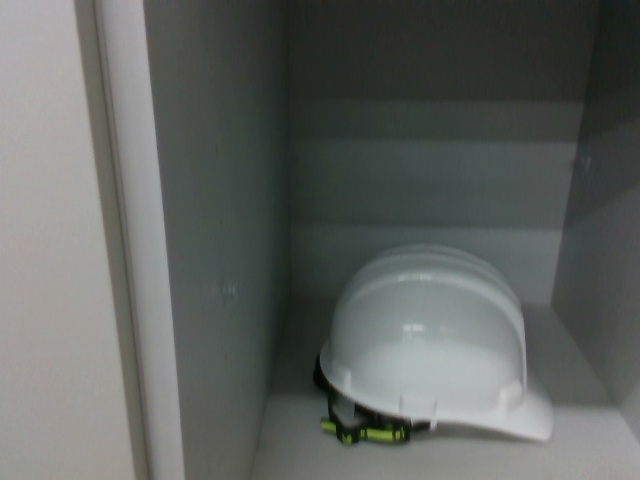helmet: (315, 240, 556, 453)
